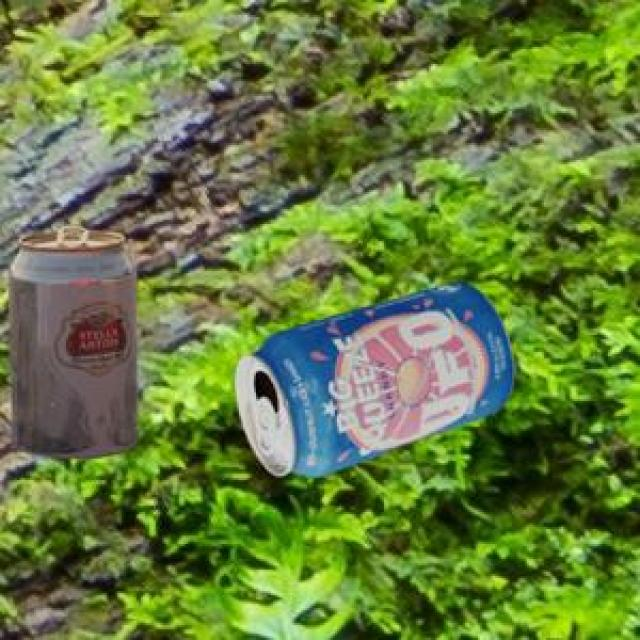logam: (231, 281, 511, 473), (5, 223, 133, 455)
